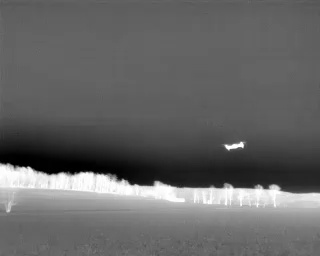DRONE: (218, 136, 251, 157)
